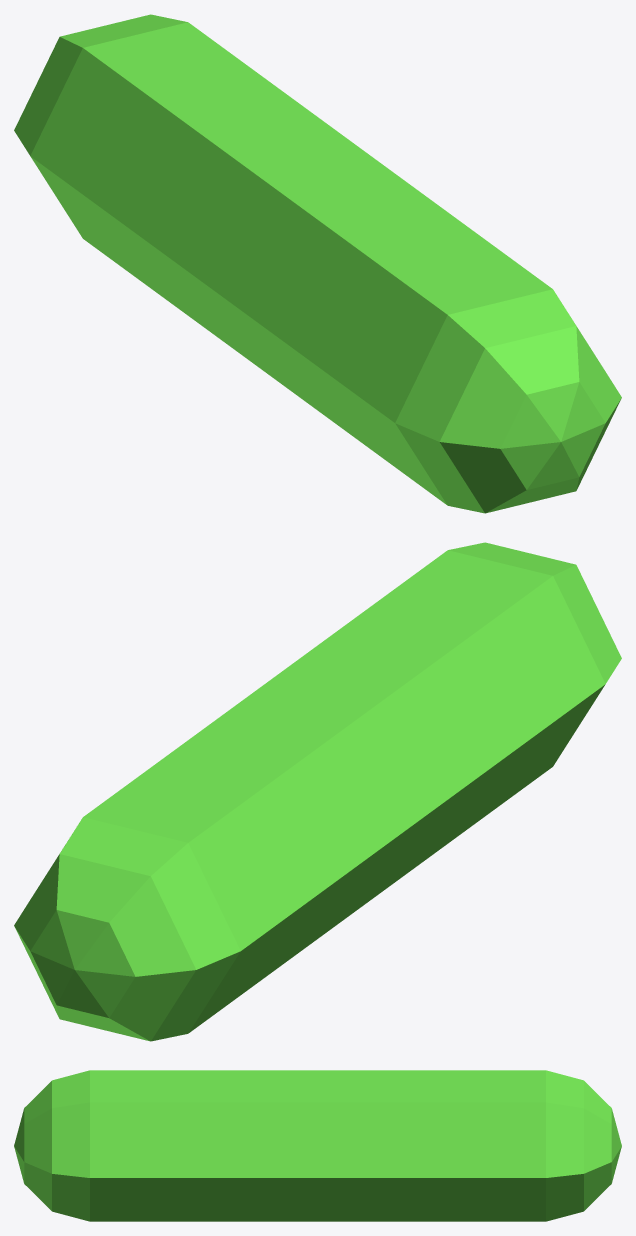
Rendered from Bacteria_01.fbx.
3 views of the same model, one above another, from view 1: azimuth 30°, elevation 25°; view 2: azimuth 150°, elevation 25°; view 3: azimuth 270°, elevation 25° (orthographic). The views are drawn at different scales.
Visible parts, largest first — view 1: Bacteria_01; view 2: Bacteria_01; view 3: Bacteria_01.
Part boxes in pixels (left/top/right/bottom): Bacteria_01: left=14, top=14, right=621, bottom=513; Bacteria_01: left=14, top=542, right=621, bottom=1041; Bacteria_01: left=14, top=1070, right=621, bottom=1221.
Size of the model in its own units: 11.62 by 10.06 by 46.46.
